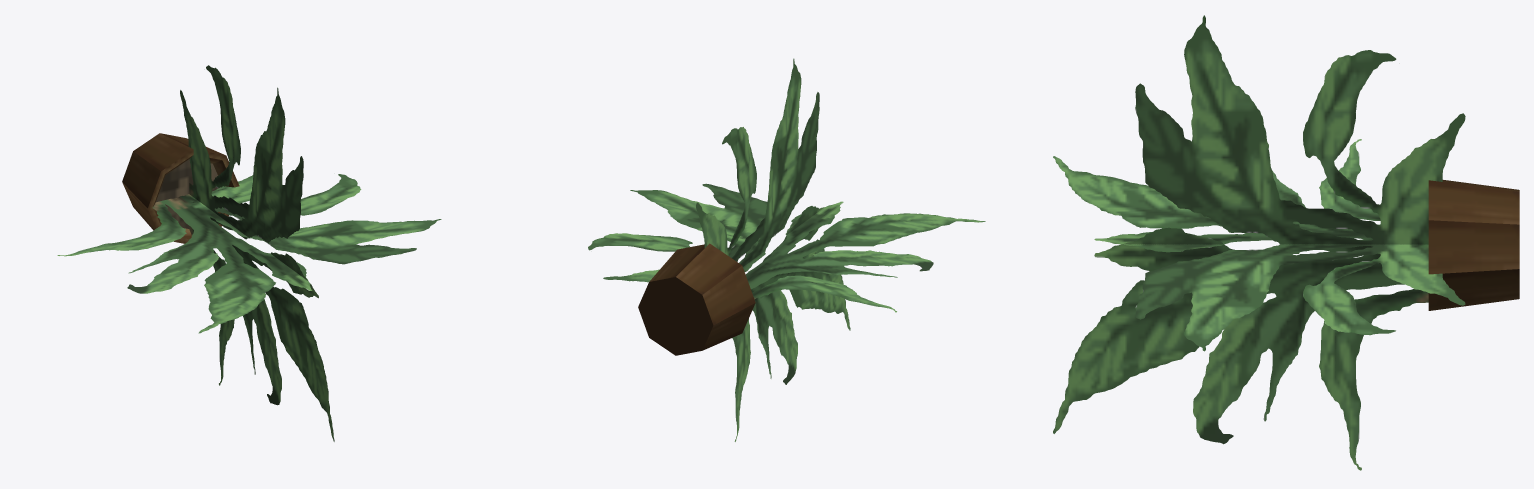
Rendered from pz_plant_native_11.obj.
3 renders of one model, left to right at view 1: azimuth 30°, elevation 25°; view 2: azimuth 150°, elevation 25°; view 3: azimuth 270°, elevation 25°, orthographic. The views are drawn at different scales.
Visible parts, largest first — view 1: foliage_PNG_crossed_cards, pot_soil_and_rim; view 2: foliage_PNG_crossed_cards, pot_soil_and_rim; view 3: foliage_PNG_crossed_cards, pot_soil_and_rim.
Part boxes in pixels (bbox=[...]): foliage_PNG_crossed_cards: bbox=[57, 65, 441, 441]; pot_soil_and_rim: bbox=[122, 133, 239, 243]; foliage_PNG_crossed_cards: bbox=[588, 58, 985, 441]; pot_soil_and_rim: bbox=[638, 243, 755, 355]; foliage_PNG_crossed_cards: bbox=[1053, 15, 1465, 470]; pot_soil_and_rim: bbox=[1428, 180, 1519, 310].
Bounding box in the file's own units: 1.99 × 1.99 × 1.85.
1 material, 1 textured.
